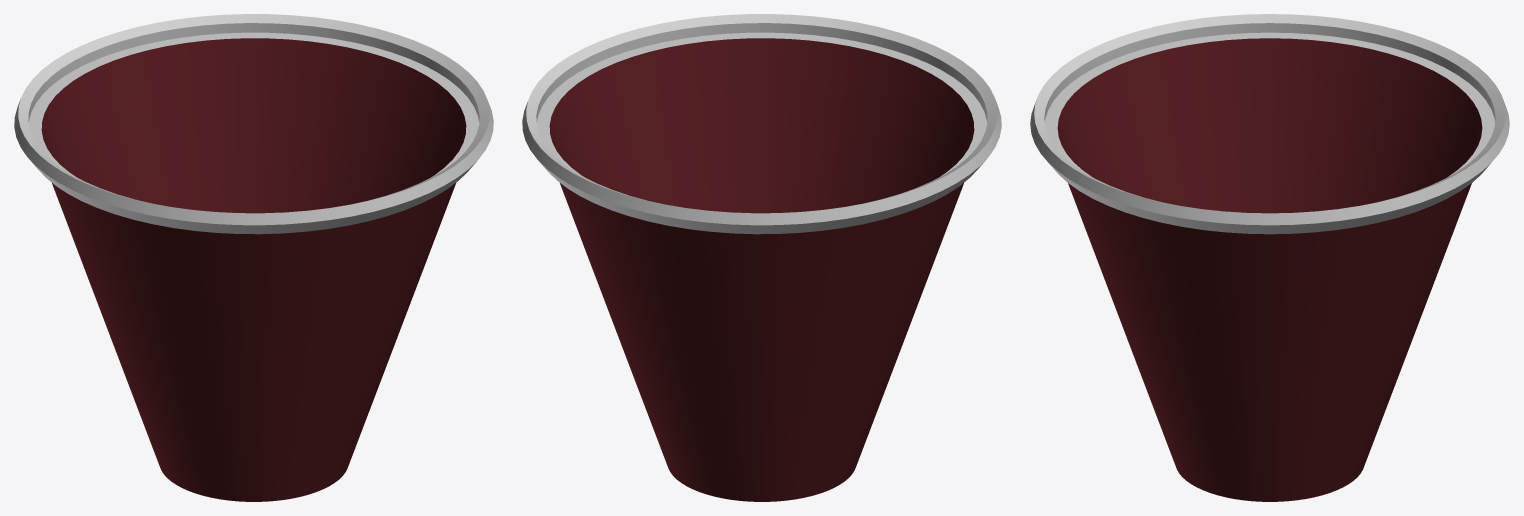
File: cup18.obj
3 views of the same model, side by side, from view 1: azimuth 30°, elevation 25°; view 2: azimuth 150°, elevation 25°; view 3: azimuth 270°, elevation 25° (orthographic).
Visible parts, largest first — view 1: Cup18.001; view 2: Cup18.001; view 3: Cup18.001.
Boxes of the visible parts, x1=… form: Cup18.001: x1=14, y1=14, x2=493, y2=501; Cup18.001: x1=522, y1=14, x2=1001, y2=501; Cup18.001: x1=1030, y1=14, x2=1509, y2=501.
Size of the model in its own units: 2.99 by 2.4 by 2.99.
